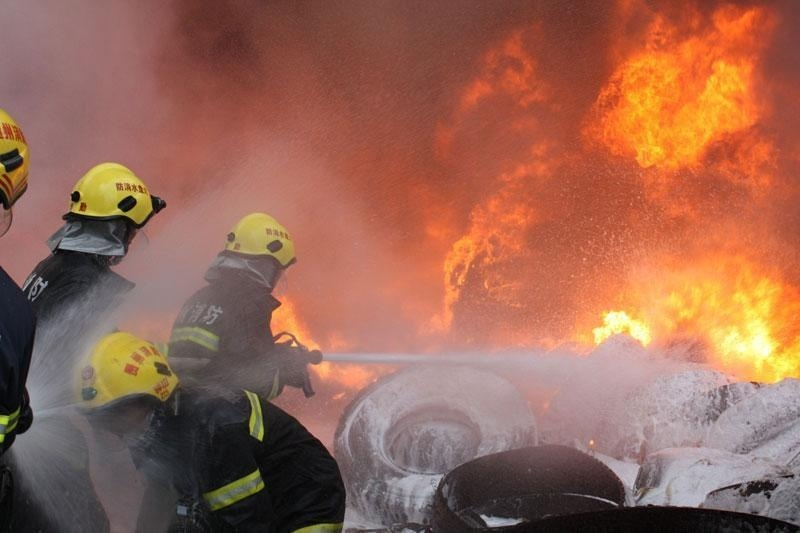fire: (440, 8, 799, 404), (268, 290, 386, 383)
